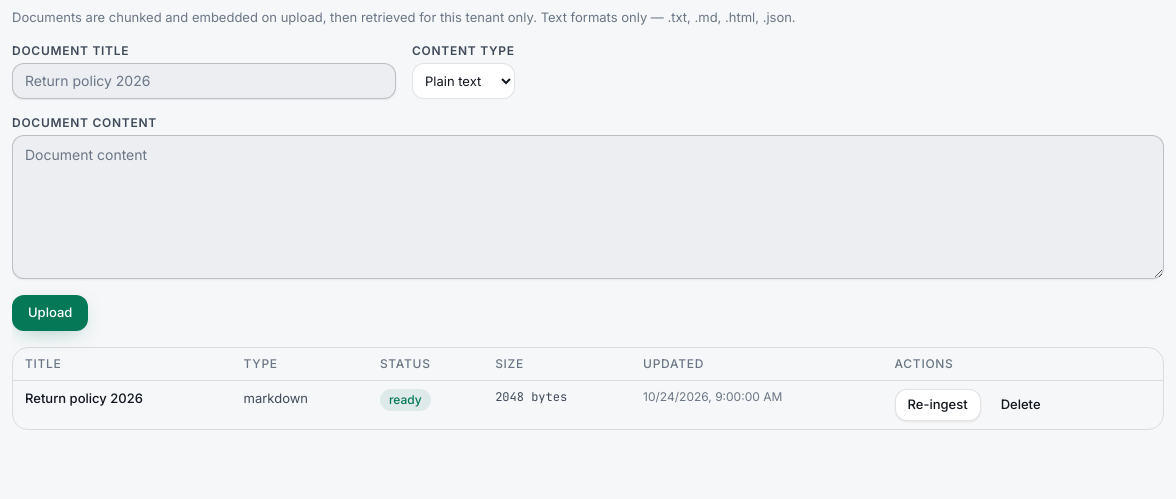
Test case: KnowledgeManager › tells the truth about re-ingest: the server says 409, the panel says 409
The image size is (1176, 499).
Click the button "Re-ingest".
click(938, 405)  # box x1=894 y1=389 x2=981 y2=421
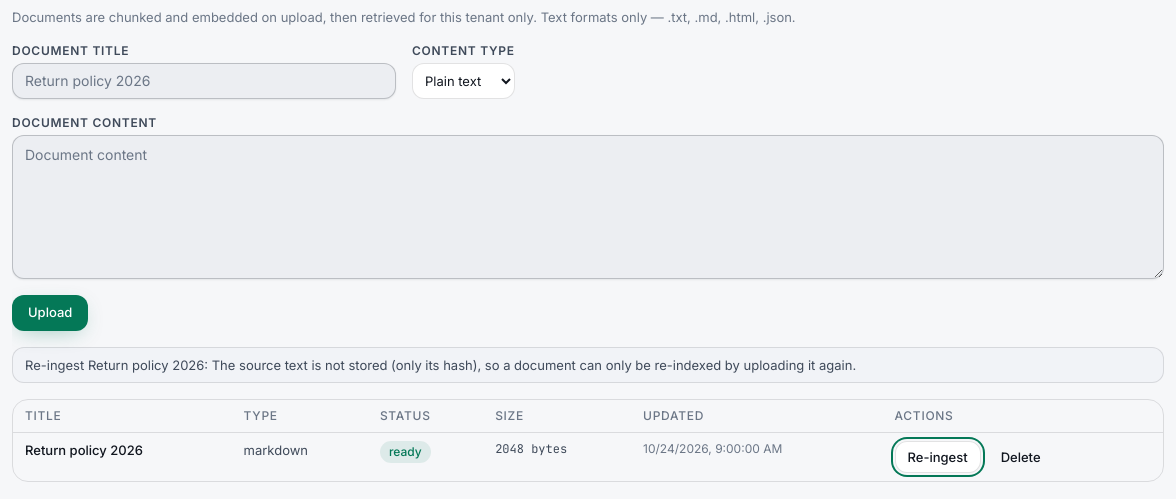
Check: the message shows "only be re-indexed by uploading it again", box x1=25 y1=357 x2=856 y2=373
